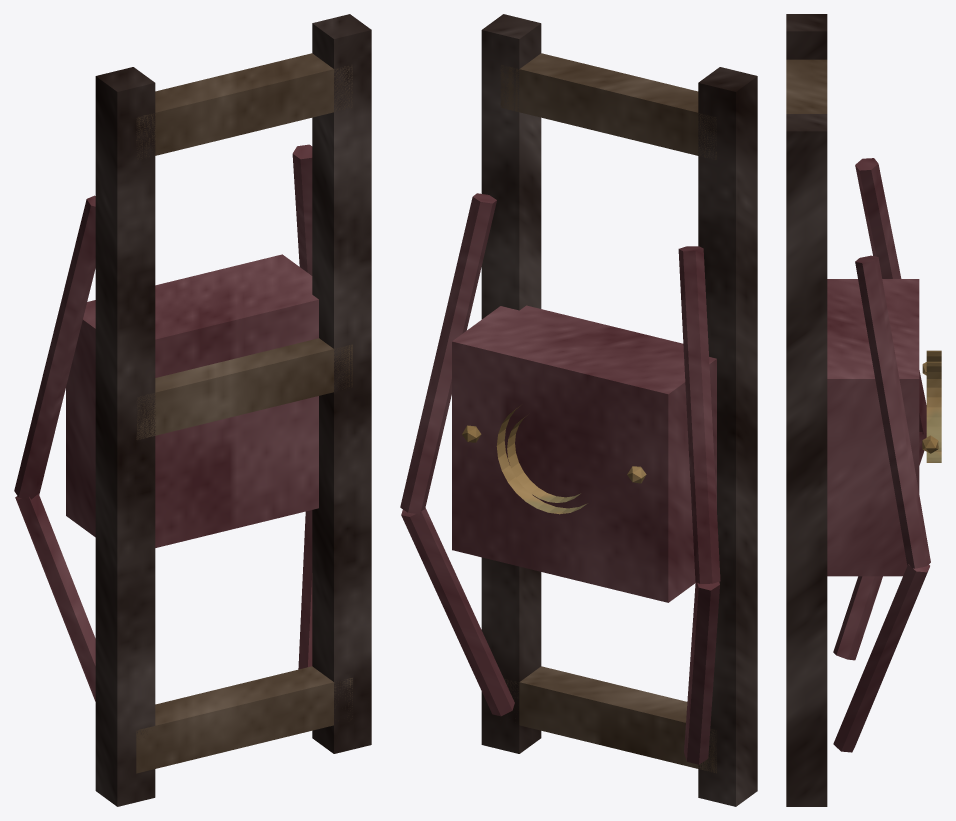
The model's file is 0845_carrier_frame_20.glb.
3 views of the same model, side by side, from view 1: azimuth 30°, elevation 25°; view 2: azimuth 150°, elevation 25°; view 3: azimuth 270°, elevation 25° (orthographic). The views are drawn at different scales.
Visible parts, largest first — view 1: wood_dark, cloth, wood; view 2: cloth, wood_dark, wood, brass; view 3: cloth, wood_dark, wood, brass.
Boxes of the visible parts, left/top/right/bottom form: wood_dark: left=95, top=14, right=371, bottom=806; cloth: left=14, top=144, right=318, bottom=701; wood: left=136, top=53, right=352, bottom=773; cloth: left=400, top=193, right=720, bottom=764; wood_dark: left=481, top=14, right=757, bottom=806; wood: left=500, top=53, right=716, bottom=773; brass: left=462, top=405, right=646, bottom=514; cloth: left=827, top=158, right=930, bottom=752; wood_dark: left=786, top=14, right=827, bottom=806; wood: left=786, top=59, right=827, bottom=113; brass: left=922, top=350, right=941, bottom=462.
Bounding box in the file's own units: 0.921 × 1.99 × 0.415.
Materials: 4 (4 with a texture image).
